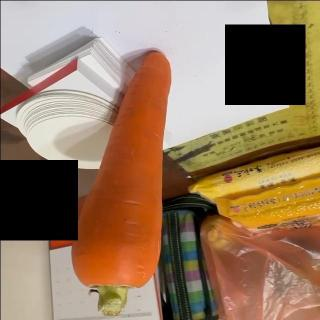carrot: (69, 50, 172, 318)
